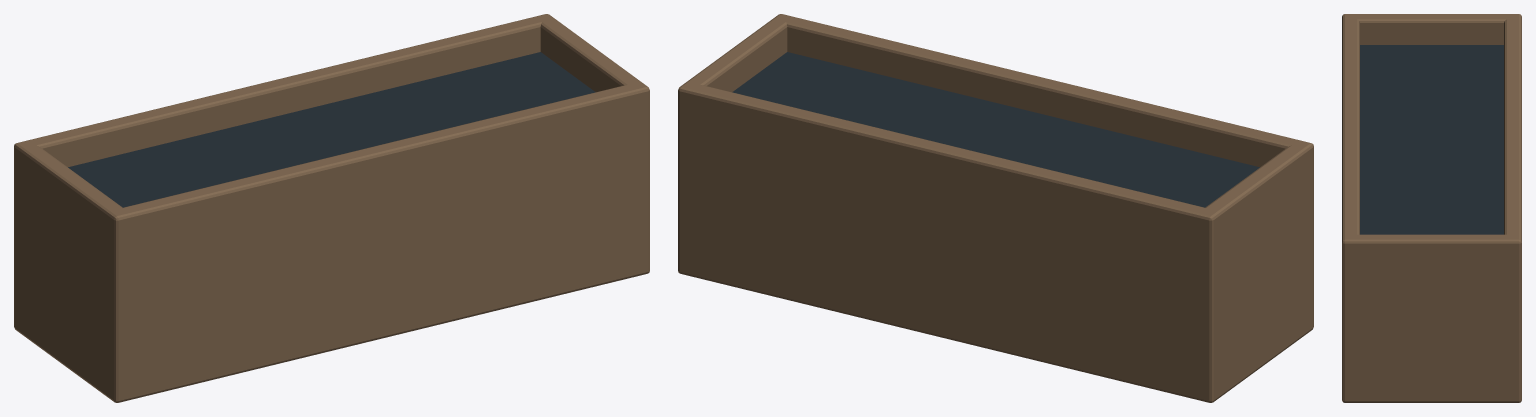
File: Trough.glb
3 views of the same model, side by side, from view 1: azimuth 30°, elevation 25°; view 2: azimuth 150°, elevation 25°; view 3: azimuth 270°, elevation 25° (orthographic). The views are drawn at different scales.
Visible parts, largest first — view 1: Trough; view 2: Trough; view 3: Trough.
Part boxes in pixels (left/top/right/bottom): Trough: left=14, top=14, right=649, bottom=402; Trough: left=678, top=14, right=1313, bottom=402; Trough: left=1342, top=14, right=1521, bottom=402.
Bounding box in the file's own units: 1.8 × 0.6 × 0.6.
